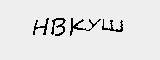В: (51, 15, 68, 37)
К: (69, 18, 88, 34)
Н: (31, 17, 49, 37)
У: (83, 17, 99, 37)
Ш: (100, 16, 125, 37)
